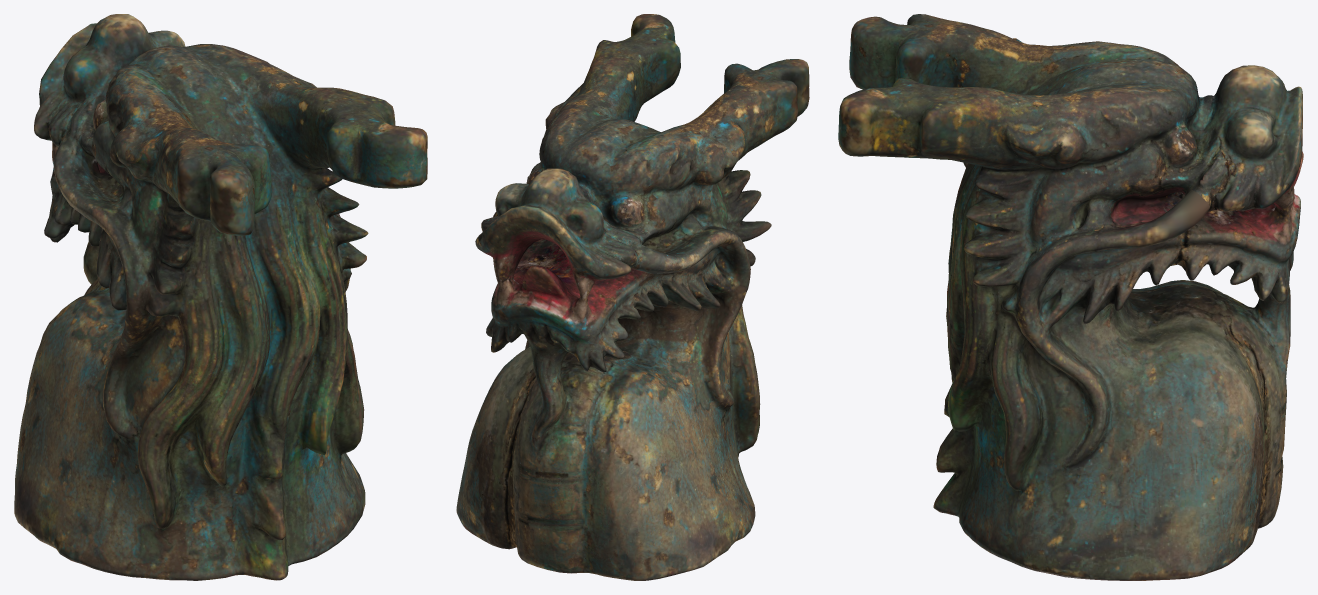
Rendered from MTY004597.glb.
3 views of the same model, side by side, from view 1: azimuth 30°, elevation 25°; view 2: azimuth 150°, elevation 25°; view 3: azimuth 270°, elevation 25° (orthographic). The views are drawn at different scales.
Visible parts, largest first — view 1: MTY004597; view 2: MTY004597; view 3: MTY004597.
Part boxes in pixels (bbox=[...]): MTY004597: bbox=[14, 14, 427, 580]; MTY004597: bbox=[456, 14, 809, 580]; MTY004597: bbox=[838, 14, 1303, 580].
Size of the model in its own units: 39.44 by 59.49 by 54.89.
Materials: 1 (1 with a texture image).
